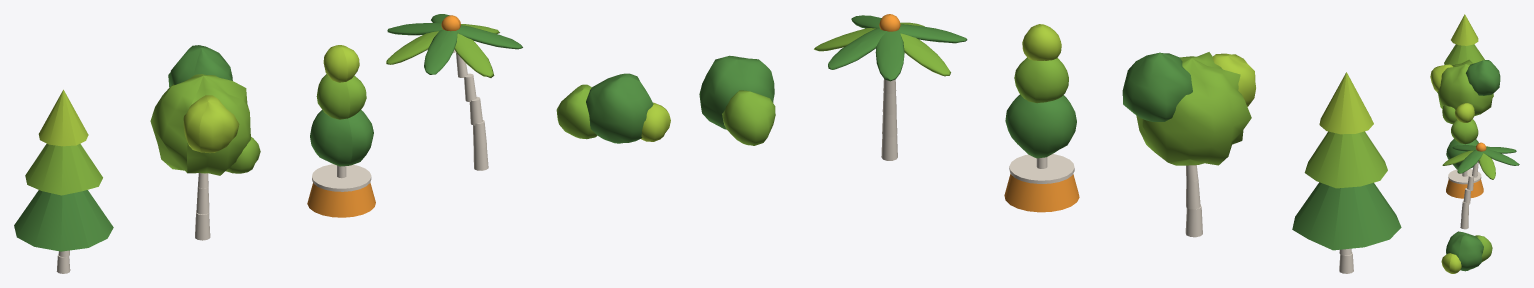
File: trees.glb
3 views of the same model, side by side, from view 1: azimuth 30°, elevation 25°; view 2: azimuth 150°, elevation 25°; view 3: azimuth 270°, elevation 25° (orthographic). The views are drawn at different scales.
Visible parts, largest first — view 1: canopy_main_2, fir_tier_1_0, bush_a_5, fir_tier_1_1, ball_low_3, canopy_lobe_b_2, planter_3, ball_mid_3, fir_tier_1_2, canopy_lobe_a_2, bush_b_5, planter_rim_3 (+9 smaller); view 2: canopy_main_2, fir_tier_1_0, canopy_lobe_a_2, fir_tier_1_1, ball_low_3, bush_a_5, bush_b_5, planter_3, ball_mid_3, fir_tier_1_2, planter_rim_3, ball_top_3 (+7 smaller); view 3: canopy_main_2, bush_a_5, canopy_lobe_a_2, fir_tier_1_1, ball_mid_3, fir_tier_1_2, planter_3, bush_c_5, ball_top_3, planter_rim_3, frond_blade_4_4, ball_low_3 (+14 smaller).
Boxes of the visible parts, box(x1,y1,x2,y2) form: canopy_main_2: box(150, 74, 250, 175); fir_tier_1_0: box(14, 190, 113, 251); bush_a_5: box(586, 73, 653, 143); fir_tier_1_1: box(25, 143, 102, 195); ball_low_3: box(310, 110, 373, 166); canopy_lobe_b_2: box(183, 95, 239, 152); planter_3: box(307, 183, 375, 217); ball_mid_3: box(316, 74, 366, 119); fir_tier_1_2: box(38, 89, 88, 146); canopy_lobe_a_2: box(168, 45, 232, 87); bush_b_5: box(556, 84, 597, 139); planter_rim_3: box(312, 164, 371, 191); canopy_main_2: box(1136, 52, 1251, 165); fir_tier_1_0: box(1292, 182, 1401, 250); canopy_lobe_a_2: box(1122, 52, 1192, 121); fir_tier_1_1: box(1304, 131, 1387, 188); ball_low_3: box(1005, 94, 1076, 158); bush_a_5: box(699, 55, 774, 129); bush_b_5: box(722, 90, 775, 145); planter_3: box(1004, 174, 1079, 212); ball_mid_3: box(1014, 57, 1068, 103); fir_tier_1_2: box(1319, 72, 1373, 134); planter_rim_3: box(1009, 154, 1074, 183); ball_top_3: box(1022, 24, 1061, 60); canopy_main_2: box(1437, 59, 1493, 116); bush_a_5: box(1446, 231, 1483, 271); canopy_lobe_a_2: box(1466, 60, 1500, 95); fir_tier_1_1: box(1444, 44, 1484, 65); ball_mid_3: box(1451, 119, 1478, 144); fir_tier_1_2: box(1451, 14, 1478, 45); planter_3: box(1446, 179, 1483, 198); bush_c_5: box(1441, 253, 1461, 273); ball_top_3: box(1455, 103, 1474, 122); planter_rim_3: box(1448, 169, 1481, 184); frond_blade_4_4: box(1457, 150, 1483, 173); ball_low_3: box(1446, 139, 1478, 169).
Size of the model in its own units: 6.44 by 1.8 by 1.4.
